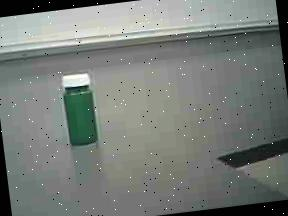Bottle C: (50, 65, 111, 157)
